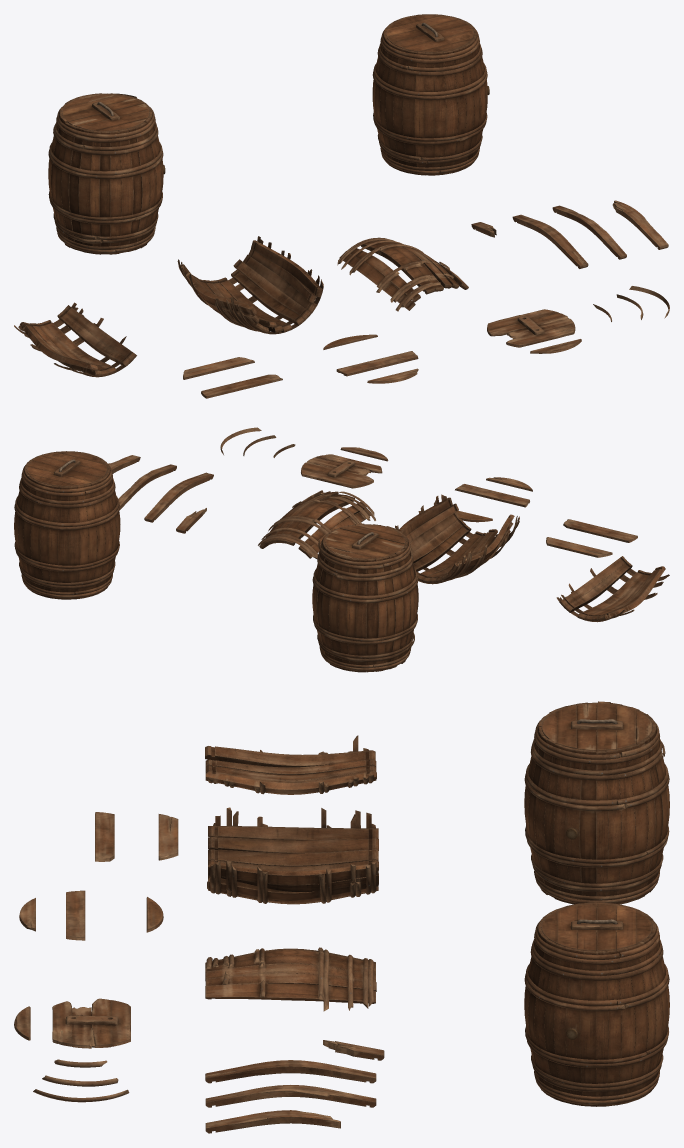
The model's file is wooden_barrels_01_2k.fbx.
3 renders of one model, top to bottom at view 1: azimuth 30°, elevation 25°; view 2: azimuth 150°, elevation 25°; view 3: azimuth 270°, elevation 25°, orthographic. The views are drawn at different scales.
Parts seen in each view (by area): view 1: wooden_barrels_01_barrel02, wooden_barrels_01_barrel01, wooden_barrels_01_piece01, wooden_barrels_01_piece03, wooden_barrels_01_piece02, wooden_barrels_01_piece08, wooden_barrels_01_piece04, wooden_barrels_01_piece05, wooden_barrels_01_piece06, wooden_barrels_01_piece11, wooden_barrels_01_piece14, wooden_barrels_01_piece13; view 2: wooden_barrels_01_barrel02, wooden_barrels_01_barrel01, wooden_barrels_01_piece01, wooden_barrels_01_piece03, wooden_barrels_01_piece02, wooden_barrels_01_piece08, wooden_barrels_01_piece04, wooden_barrels_01_piece14, wooden_barrels_01_piece11, wooden_barrels_01_piece05, wooden_barrels_01_piece13; view 3: wooden_barrels_01_barrel01, wooden_barrels_01_barrel02, wooden_barrels_01_piece01, wooden_barrels_01_piece03, wooden_barrels_01_piece02, wooden_barrels_01_piece08, wooden_barrels_01_piece04, wooden_barrels_01_piece05, wooden_barrels_01_piece06, wooden_barrels_01_piece11, wooden_barrels_01_piece14, wooden_barrels_01_piece13 (+1 smaller).
Boxes of the visible parts, x1,y1,x2,y2 form: wooden_barrels_01_barrel02: (48, 93, 165, 254); wooden_barrels_01_barrel01: (372, 14, 489, 175); wooden_barrels_01_piece01: (177, 236, 323, 334); wooden_barrels_01_piece03: (337, 237, 468, 311); wooden_barrels_01_piece02: (14, 302, 136, 377); wooden_barrels_01_piece08: (487, 309, 575, 347); wooden_barrels_01_piece04: (512, 214, 588, 268); wooden_barrels_01_piece05: (552, 205, 626, 259); wooden_barrels_01_piece06: (612, 200, 668, 249); wooden_barrels_01_piece11: (336, 351, 418, 376); wooden_barrels_01_piece14: (201, 374, 282, 398); wooden_barrels_01_piece13: (183, 357, 254, 379); wooden_barrels_01_barrel02: (312, 523, 418, 672); wooden_barrels_01_barrel01: (14, 451, 120, 599); wooden_barrels_01_piece01: (395, 494, 519, 584); wooden_barrels_01_piece03: (258, 490, 375, 558); wooden_barrels_01_piece02: (556, 556, 669, 622); wooden_barrels_01_piece08: (301, 454, 382, 488); wooden_barrels_01_piece04: (144, 472, 213, 522); wooden_barrels_01_piece14: (563, 519, 637, 542); wooden_barrels_01_piece11: (455, 484, 529, 507); wooden_barrels_01_piece05: (118, 464, 176, 510); wooden_barrels_01_piece13: (546, 537, 612, 557); wooden_barrels_01_barrel01: (524, 902, 669, 1106); wooden_barrels_01_barrel02: (524, 701, 669, 904); wooden_barrels_01_piece01: (207, 807, 378, 904); wooden_barrels_01_piece03: (205, 947, 376, 1011); wooden_barrels_01_piece02: (205, 735, 376, 794); wooden_barrels_01_piece08: (52, 998, 130, 1048); wooden_barrels_01_piece04: (205, 1060, 376, 1083); wooden_barrels_01_piece05: (205, 1085, 376, 1107); wooden_barrels_01_piece06: (205, 1110, 340, 1133); wooden_barrels_01_piece11: (66, 890, 85, 940); wooden_barrels_01_piece14: (95, 812, 114, 861); wooden_barrels_01_piece13: (158, 814, 178, 860).
Size of the model in its own units: 444 by 95.67 by 334.
Materials: 3 (3 with a texture image).
